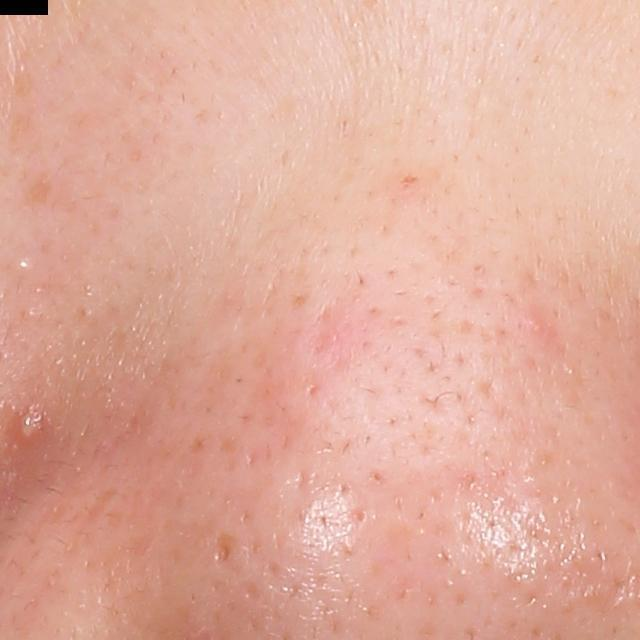atrophic_scar: (214, 536, 236, 568)
melasma: (23, 172, 63, 212)
papule: (522, 309, 549, 338)
pustule: (16, 411, 50, 440)
